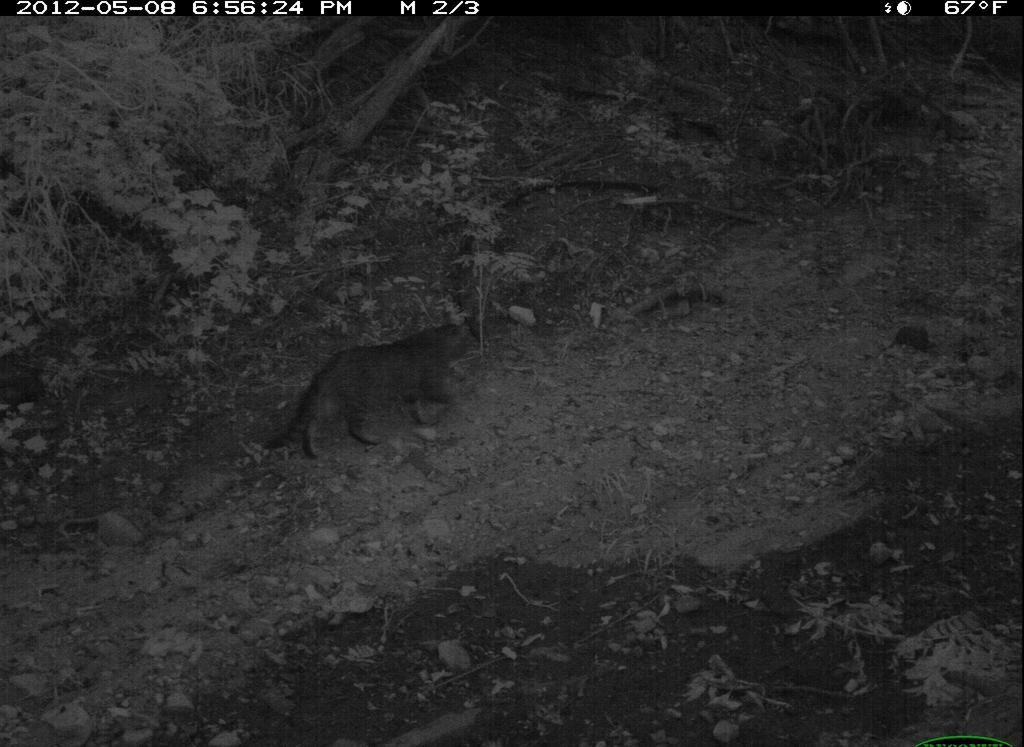cat: (259, 309, 481, 469)
